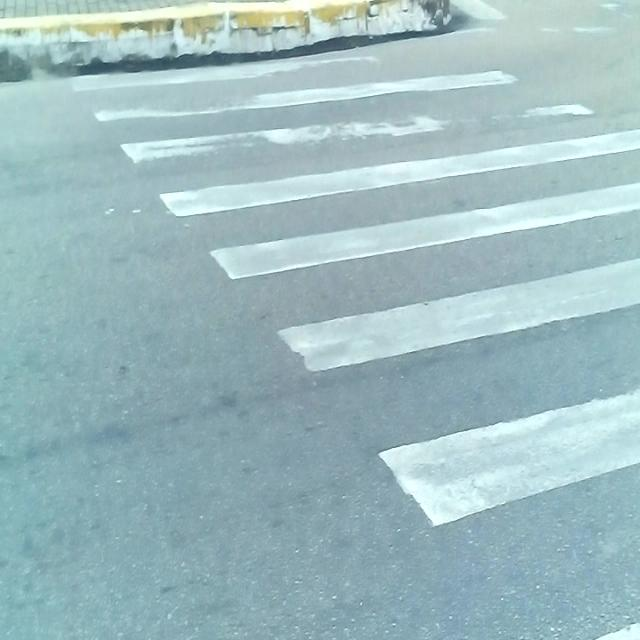crosswalk: (55, 29, 640, 640), (448, 1, 640, 23)
